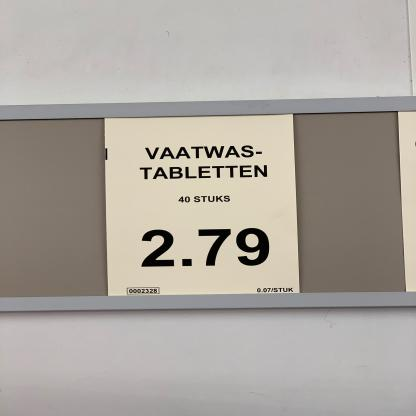prtg: (104, 115, 302, 299)
